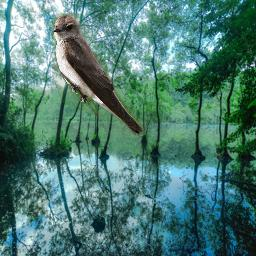Swallow: (52, 13, 146, 136)
